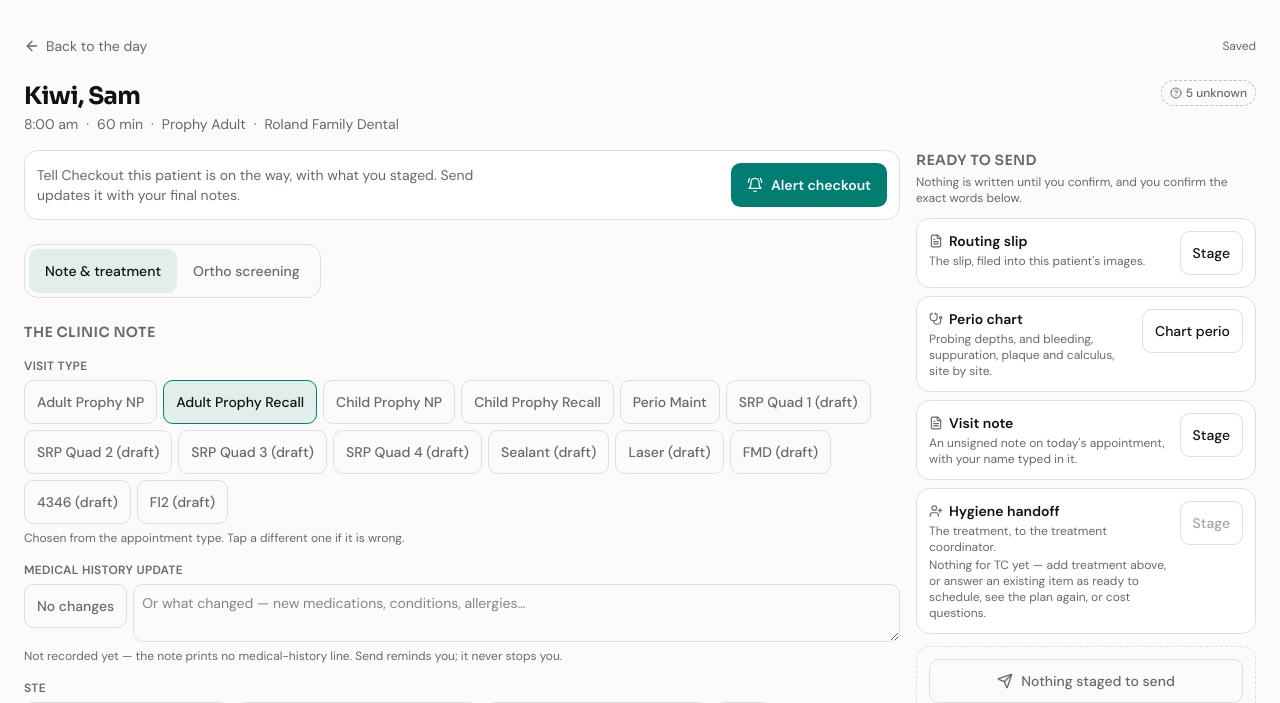
Scenario: Alert checkout on the visit page › TC down → the refusal in words, nothing claimed, the button still there
Click the button with test id "checkout-alert-button" at (809, 185), box [731, 163, 887, 207]
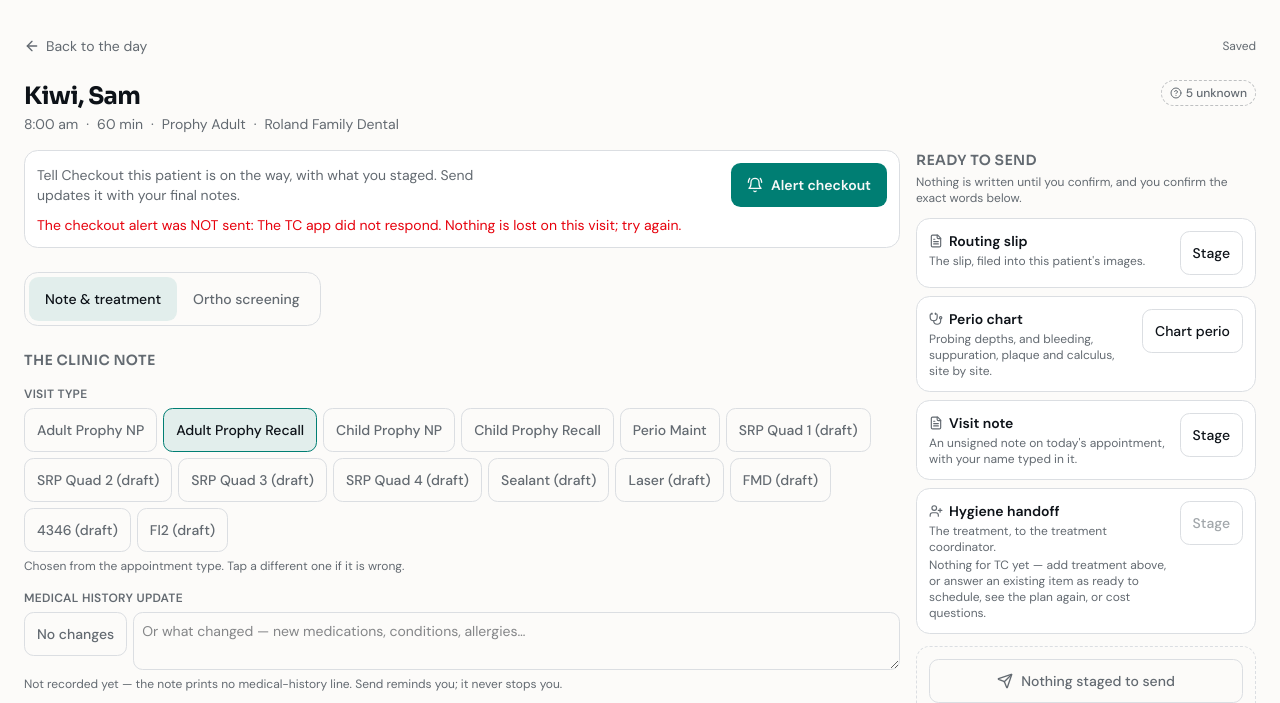
Expected: the message with test id "checkout-error" shows "NOT sent", [37, 216, 681, 234]
